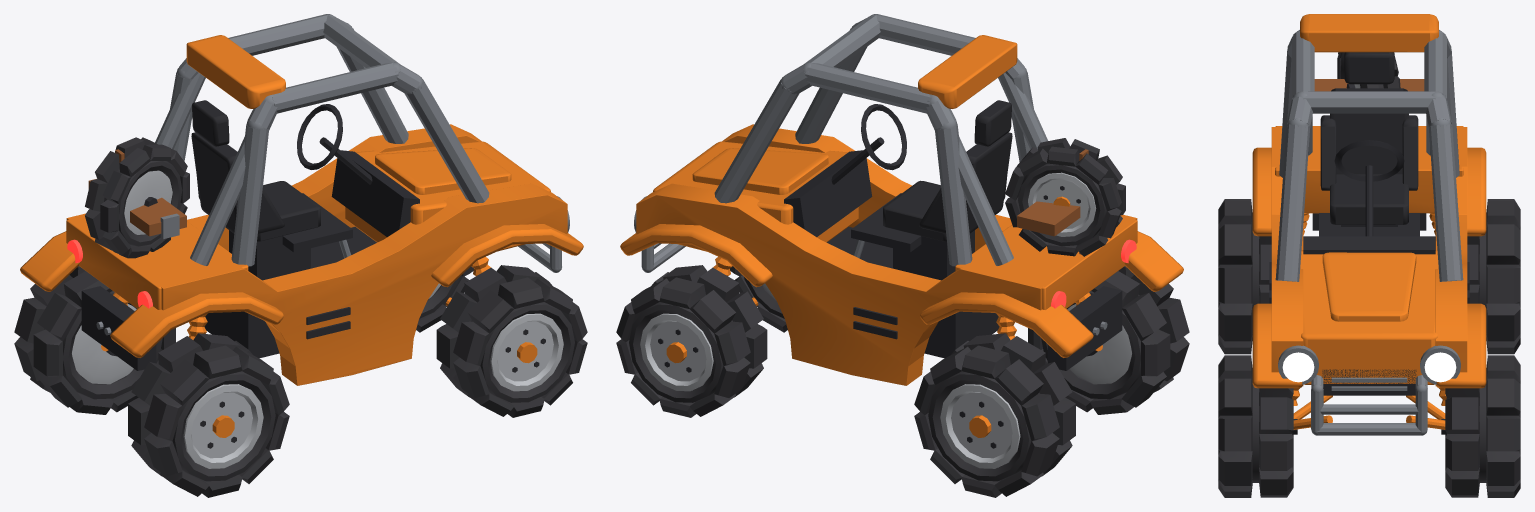
File: buggy.glb
The picture shows the model from 3 angles, left to right: view 1: azimuth 30°, elevation 25°; view 2: azimuth 150°, elevation 25°; view 3: azimuth 270°, elevation 25°; orthographic projection.
Visible parts, largest first — view 1: body, wheel_rear, wheel_front; view 2: body, wheel_rear, wheel_front; view 3: body, wheel_front, wheel_rear.
Part boxes in pixels (left/top/right/bottom): body: left=20, top=14, right=583, bottom=385; wheel_rear: left=14, top=266, right=289, bottom=497; wheel_front: left=416, top=265, right=587, bottom=417; body: left=620, top=14, right=1183, bottom=385; wheel_rear: left=914, top=266, right=1189, bottom=497; wheel_front: left=616, top=265, right=787, bottom=417; body: left=1252, top=14, right=1486, bottom=435; wheel_front: left=1218, top=355, right=1520, bottom=497; wheel_rear: left=1218, top=199, right=1520, bottom=354.
Bounding box in the file's own units: 3.41 × 2.56 × 1.92.
